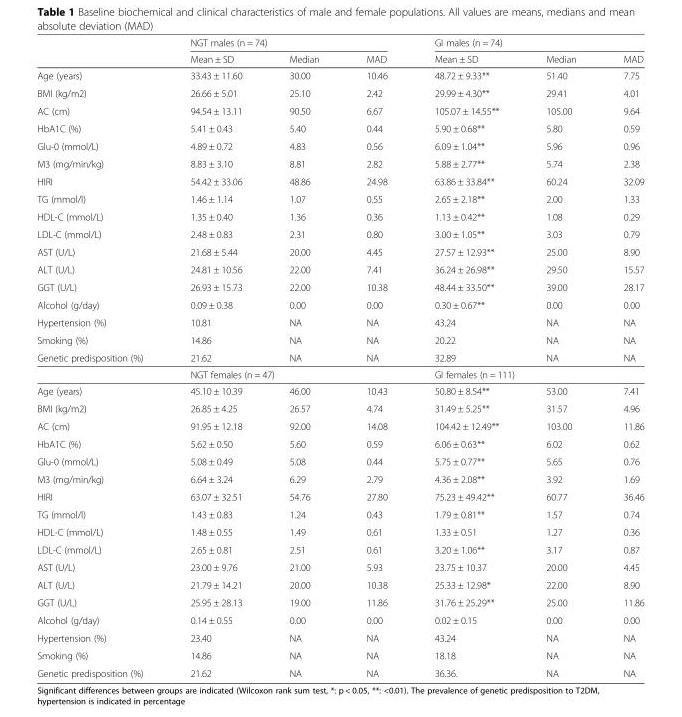table: (36, 36, 643, 678)
table column: (36, 36, 166, 678), (410, 36, 521, 678), (166, 36, 265, 678), (521, 36, 599, 678), (265, 36, 342, 678), (342, 36, 410, 678), (599, 36, 643, 678)
table column header: (36, 36, 643, 66)
table row: (36, 66, 643, 84), (36, 101, 643, 119), (36, 119, 643, 137), (36, 154, 643, 172), (36, 189, 643, 207), (36, 207, 643, 225), (36, 242, 643, 260), (36, 260, 643, 278), (36, 295, 643, 313), (36, 313, 643, 331), (36, 399, 643, 417), (36, 434, 643, 452), (36, 452, 643, 470), (36, 487, 643, 505), (36, 522, 643, 540), (36, 540, 643, 558), (36, 575, 643, 593), (36, 593, 643, 611), (36, 628, 643, 646), (36, 646, 643, 664), (36, 84, 643, 101), (36, 137, 643, 154), (36, 172, 643, 189), (36, 225, 643, 242), (36, 278, 643, 295), (36, 331, 643, 348), (36, 348, 643, 365), (36, 365, 643, 382), (36, 382, 643, 399), (36, 417, 643, 434), (36, 470, 643, 487), (36, 505, 643, 522), (36, 558, 643, 575), (36, 611, 643, 628), (36, 50, 643, 66), (36, 36, 643, 50), (36, 664, 643, 678)
table spanning cell: (36, 348, 166, 382), (166, 365, 410, 382), (410, 365, 643, 382), (166, 36, 410, 50), (410, 36, 643, 50)
